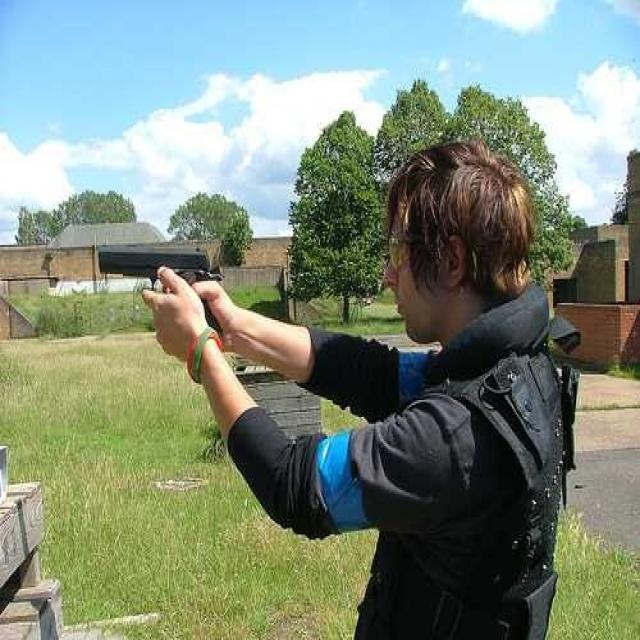Pistol: (95, 238, 224, 358)
